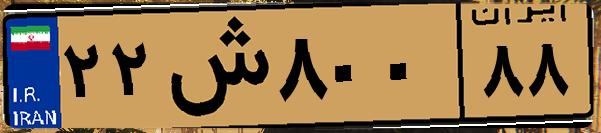0: (385, 28, 445, 110), (330, 28, 385, 110)
2: (57, 26, 110, 100), (110, 28, 158, 98)
8: (270, 28, 330, 110), (475, 38, 525, 113), (525, 38, 570, 115)
ش: (158, 12, 270, 120)
